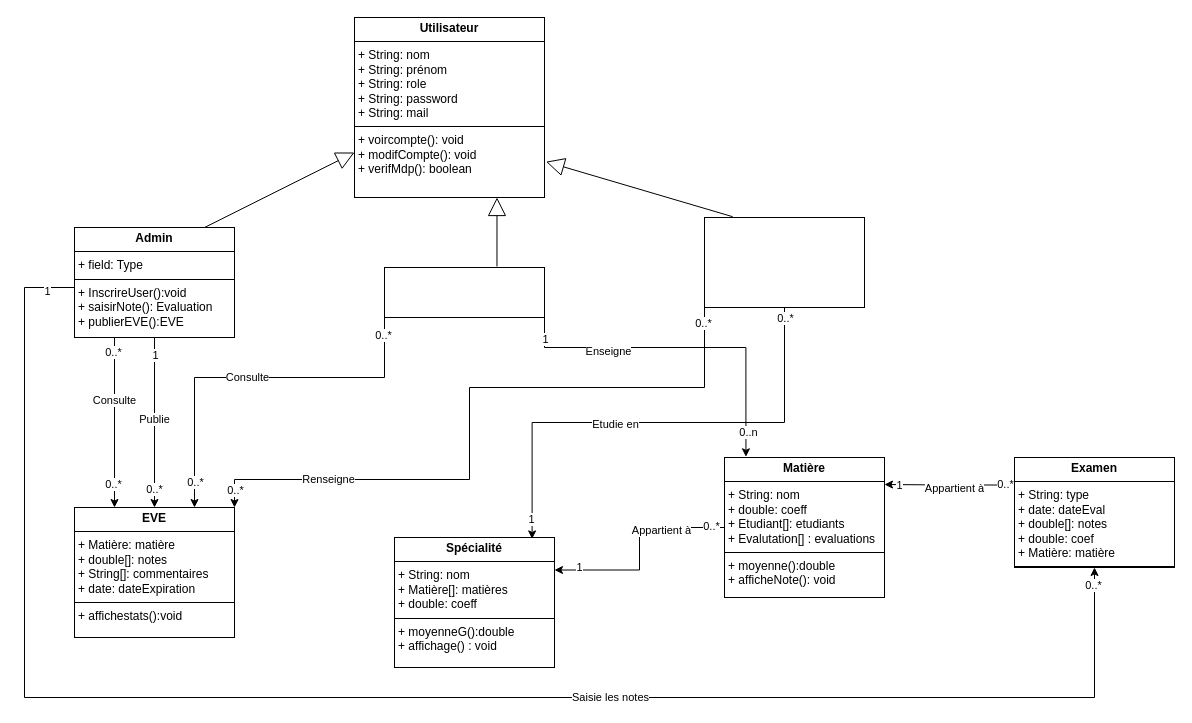
The diagram is 1192 pixels wide and 723 high, and some of its shapes have lost their labels. Each missing label, with the box of its shape:
Etudiant + Spécialité: spécialité + voirnote(): void + remplirEVE(): void: (704, 216, 864, 308)
Prof + Matière[]: matières: (384, 266, 544, 318)
